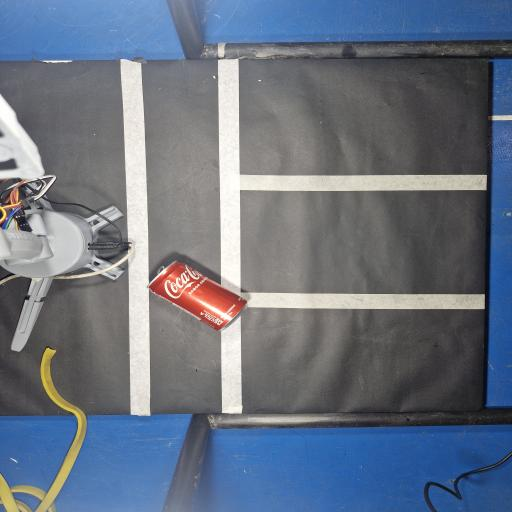lata: (147, 261, 247, 330)
